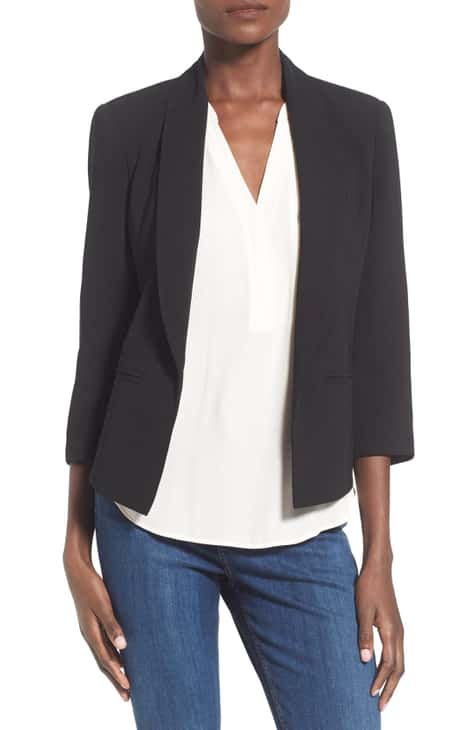F_W_suit jacket: (61, 46, 425, 522)
